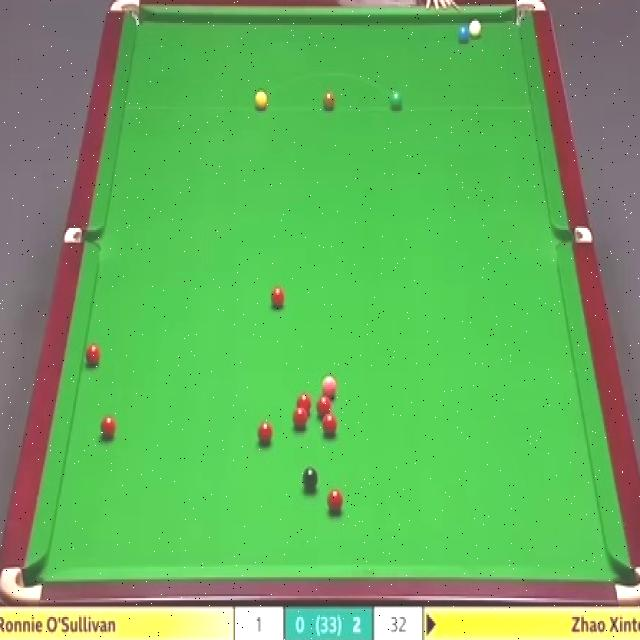black-ball: (303, 467, 320, 491)
blue-ball: (456, 24, 470, 44)
brown-ball: (323, 90, 336, 111)
green-ball: (388, 90, 404, 112)
pink-ball: (321, 372, 337, 398)
red-ball: (85, 342, 103, 368), (257, 420, 274, 447), (327, 487, 344, 513), (322, 410, 338, 436), (100, 414, 116, 440), (270, 284, 286, 310), (315, 394, 331, 416), (292, 406, 308, 428), (297, 391, 311, 415)
white-ball: (468, 19, 482, 39)
yellow-ball: (253, 89, 269, 111)
